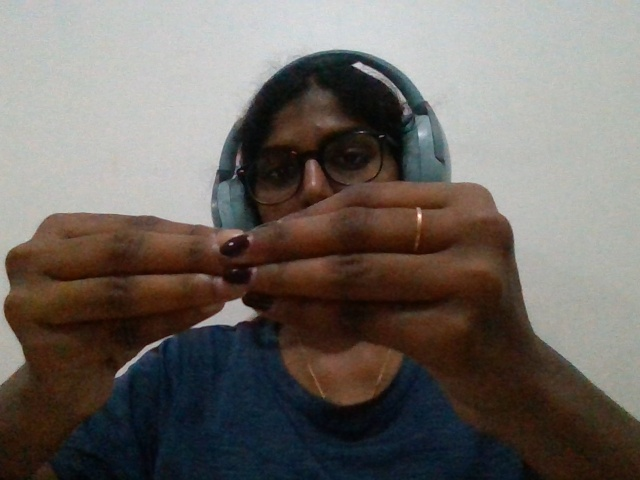More: (3, 168, 585, 460)
